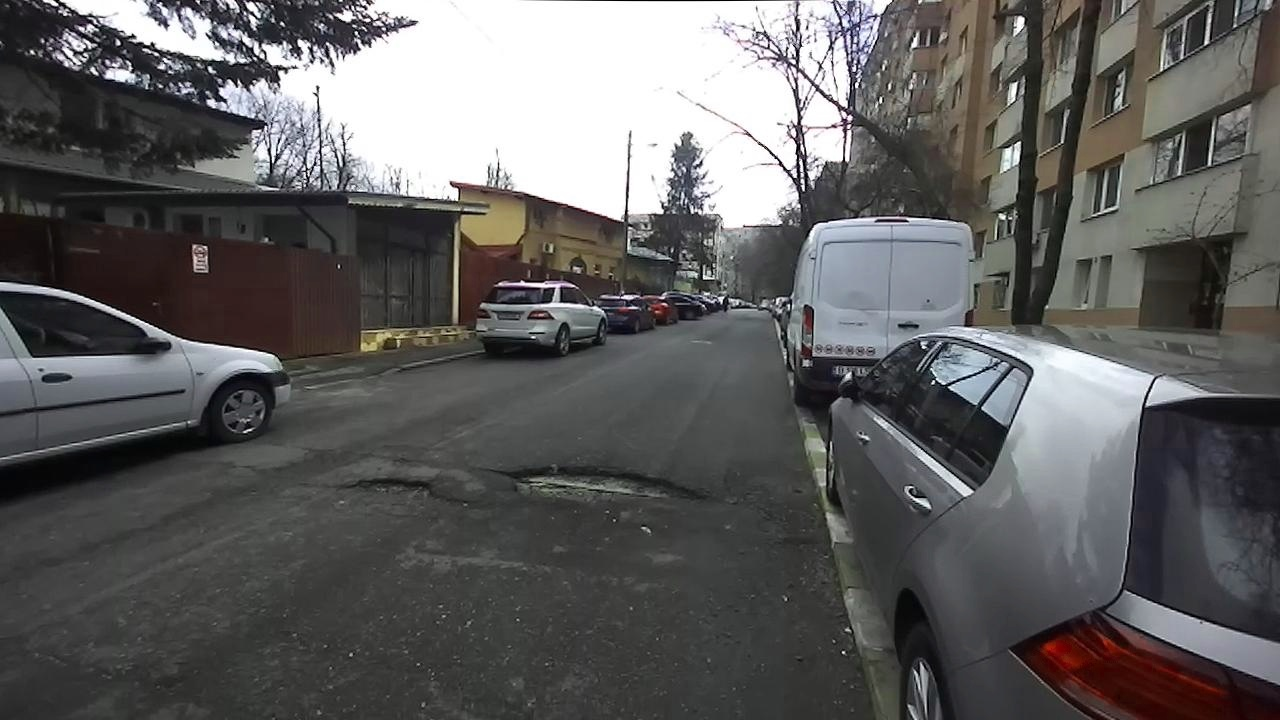pothole: (481, 461, 712, 509), (335, 474, 475, 512)
